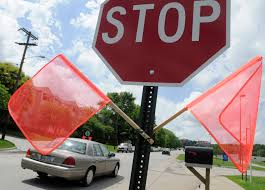SS: (95, 2, 233, 85)
